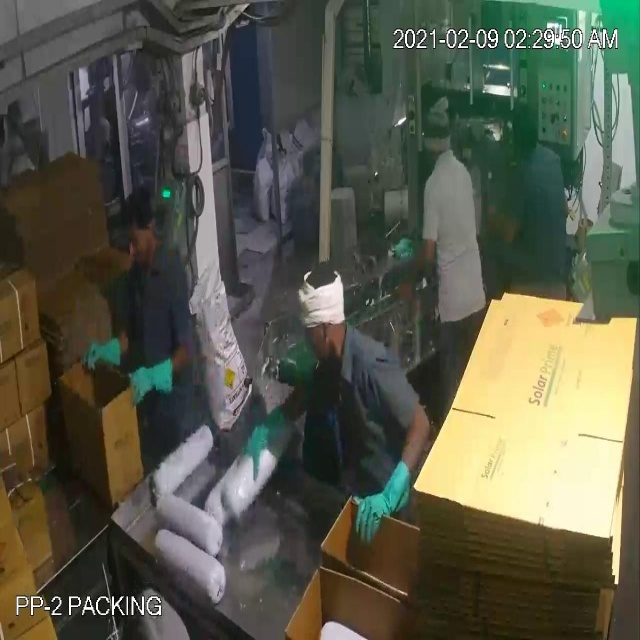Guantes: (340, 453, 413, 548), (237, 406, 291, 472), (124, 354, 180, 415), (77, 325, 130, 379)
Sin_guantes: (386, 229, 435, 303)
